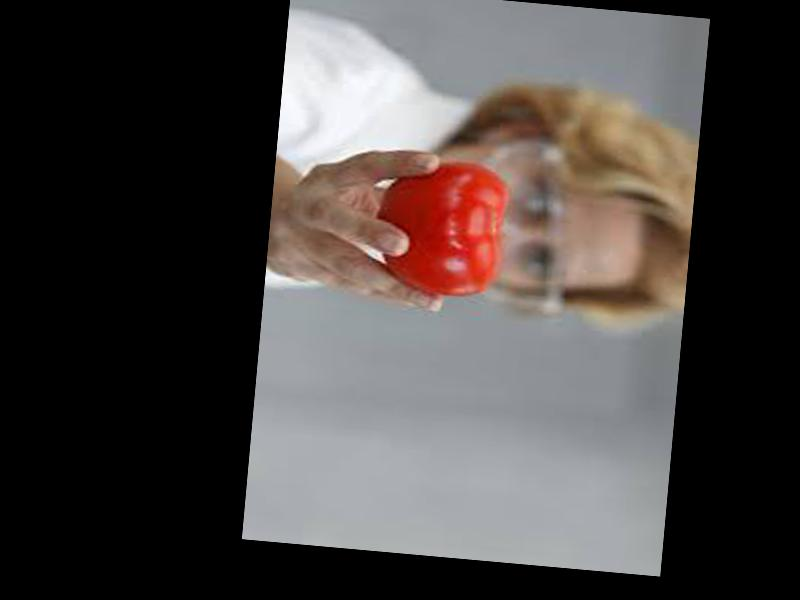Tomato: (374, 152, 508, 299)
